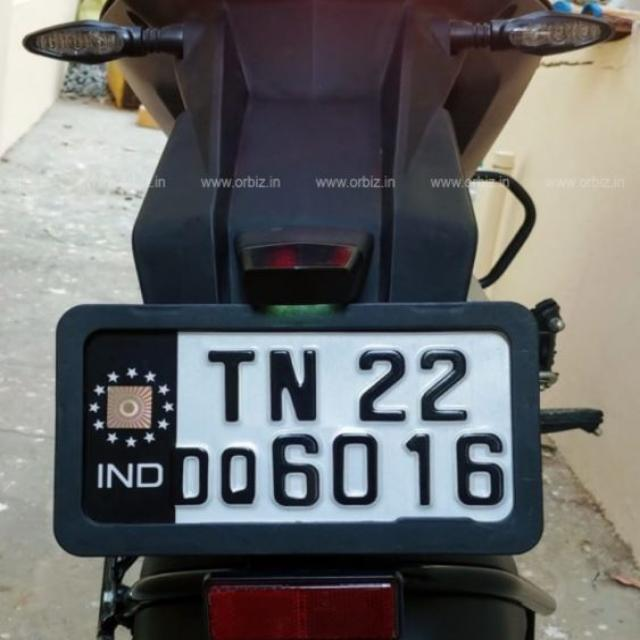number plate: (52, 298, 544, 556)
